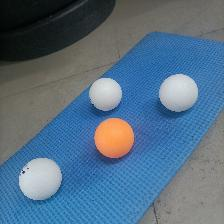WhiteBall: (18, 157, 62, 200), (157, 72, 198, 111), (88, 77, 121, 111)
YellowBall: (94, 118, 134, 158)
